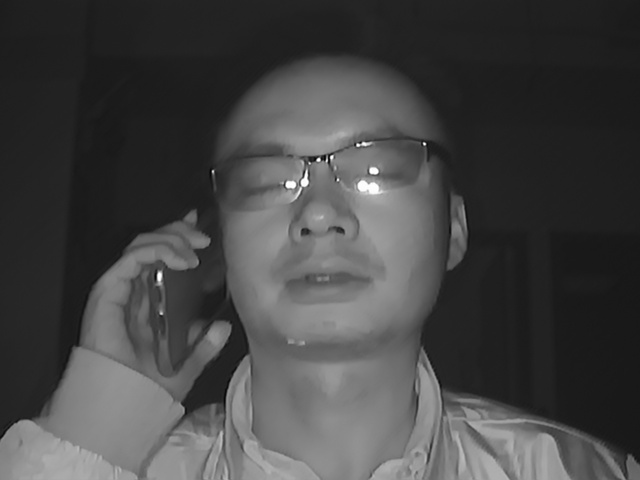hand: (88, 216, 216, 385)
